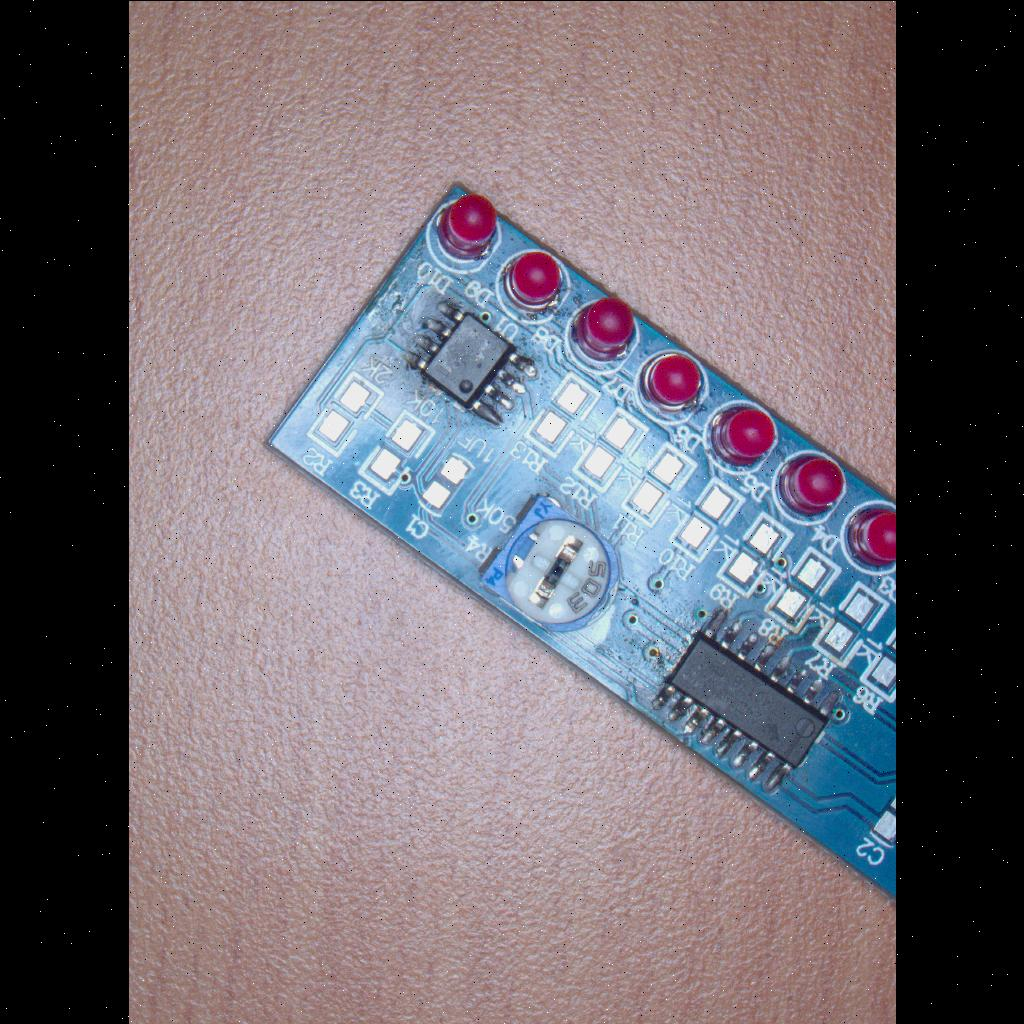NG: (667, 473, 748, 566), (618, 440, 698, 531), (572, 407, 650, 494), (716, 510, 793, 597), (765, 548, 842, 634), (523, 373, 600, 457), (813, 583, 889, 668), (359, 411, 431, 495), (308, 373, 381, 455), (413, 447, 480, 521)
OK: (644, 598, 852, 807), (399, 293, 546, 435)
